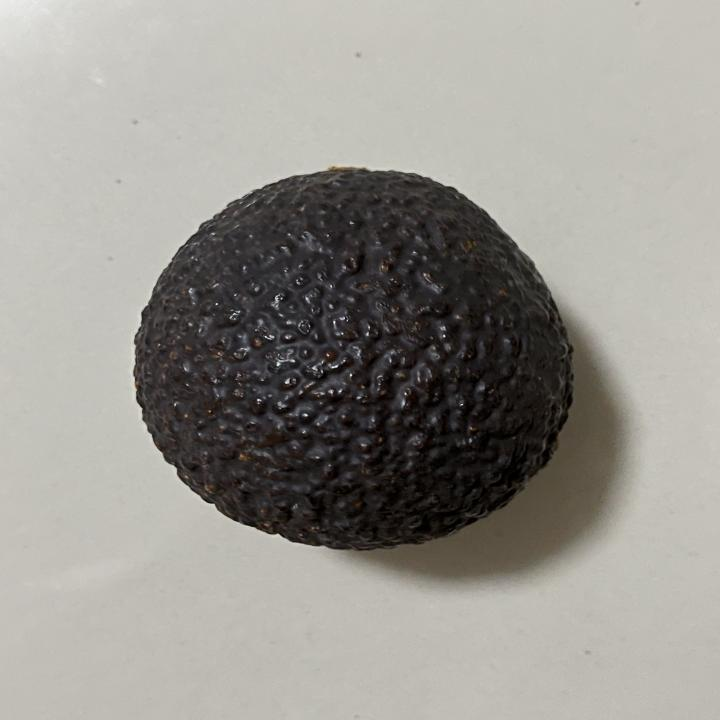Level2: (121, 157, 584, 558)
